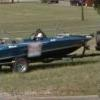Boat: (2, 24, 96, 72)
